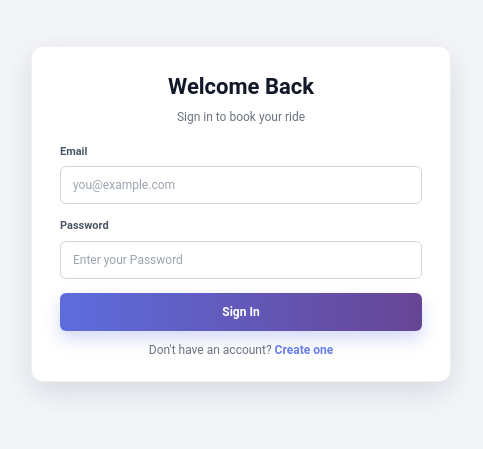
Test: LoginPage › shows 'Invalid email or password' when ApiError matches invalid credentials pattern
Type "testuser@test.com" into the field labelled "Email".
click(241, 185); type("testuser@test.com")  # box x1=60 y1=166 x2=422 y2=204
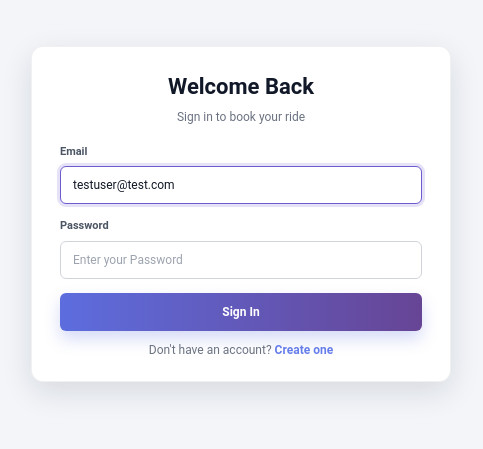
Type "wrongpass" into the password field labelled "Password".
click(241, 260); type("wrongpass")  # box x1=60 y1=241 x2=422 y2=279
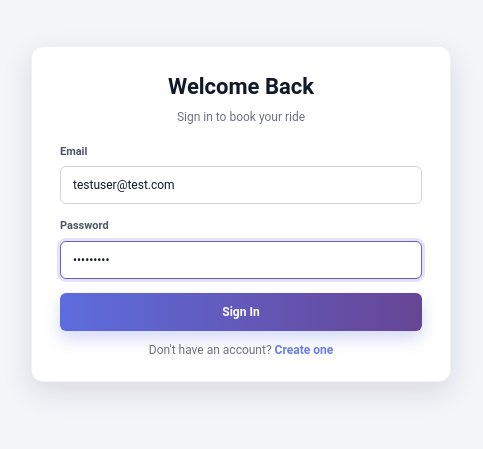
Click the button "Sign In".
click(241, 312)  # box x1=60 y1=293 x2=422 y2=331
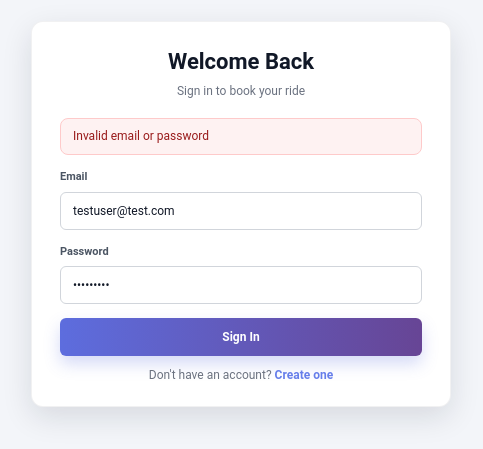
Check: the text "Invalid email or password" is shown, box x1=60 y1=118 x2=422 y2=155
